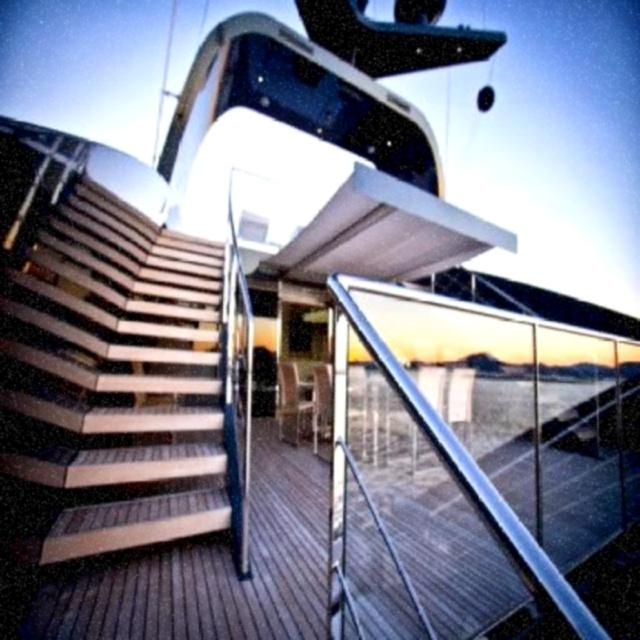stair: (42, 230, 230, 568)
